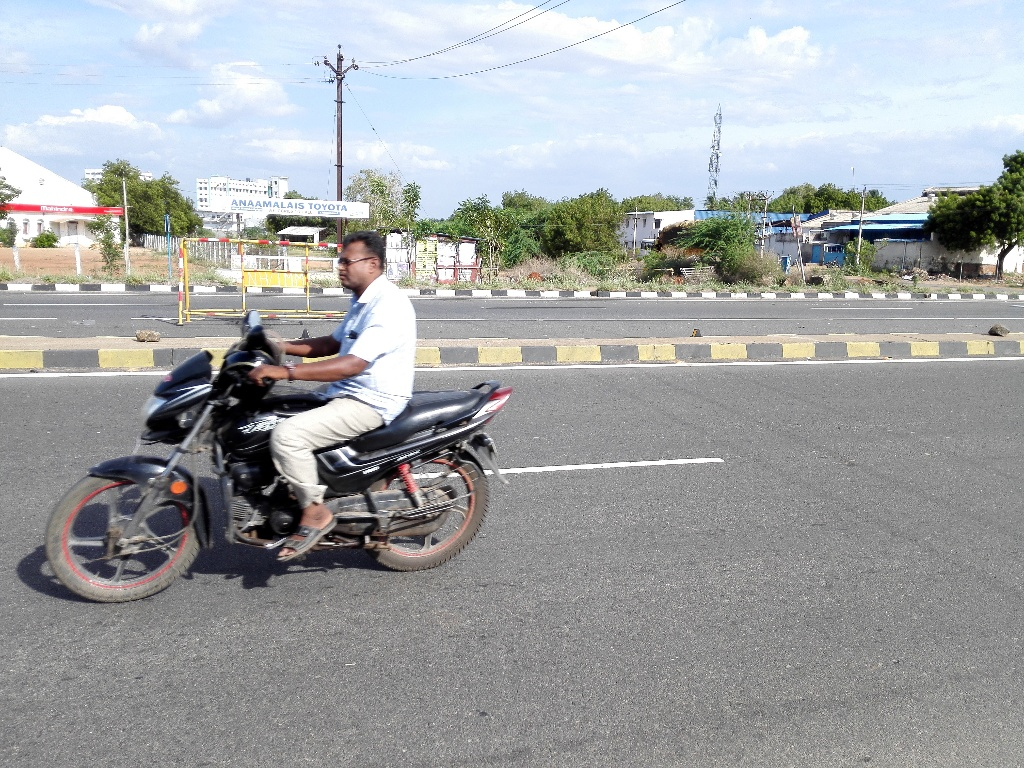biker: (21, 180, 537, 620)
nohelmet: (327, 221, 397, 302)
